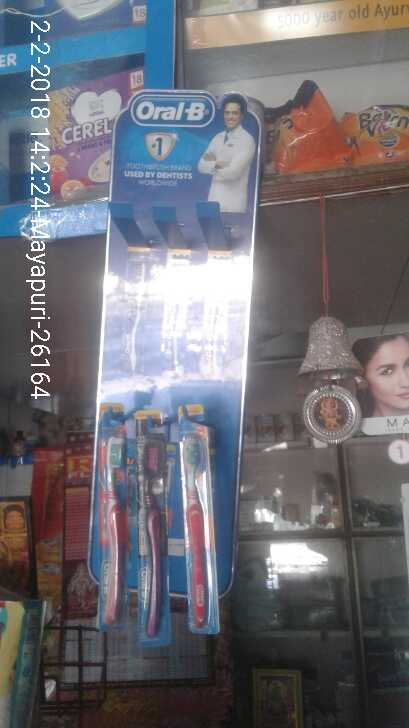oralb: (131, 434, 173, 647), (181, 432, 222, 630), (97, 436, 127, 626)
